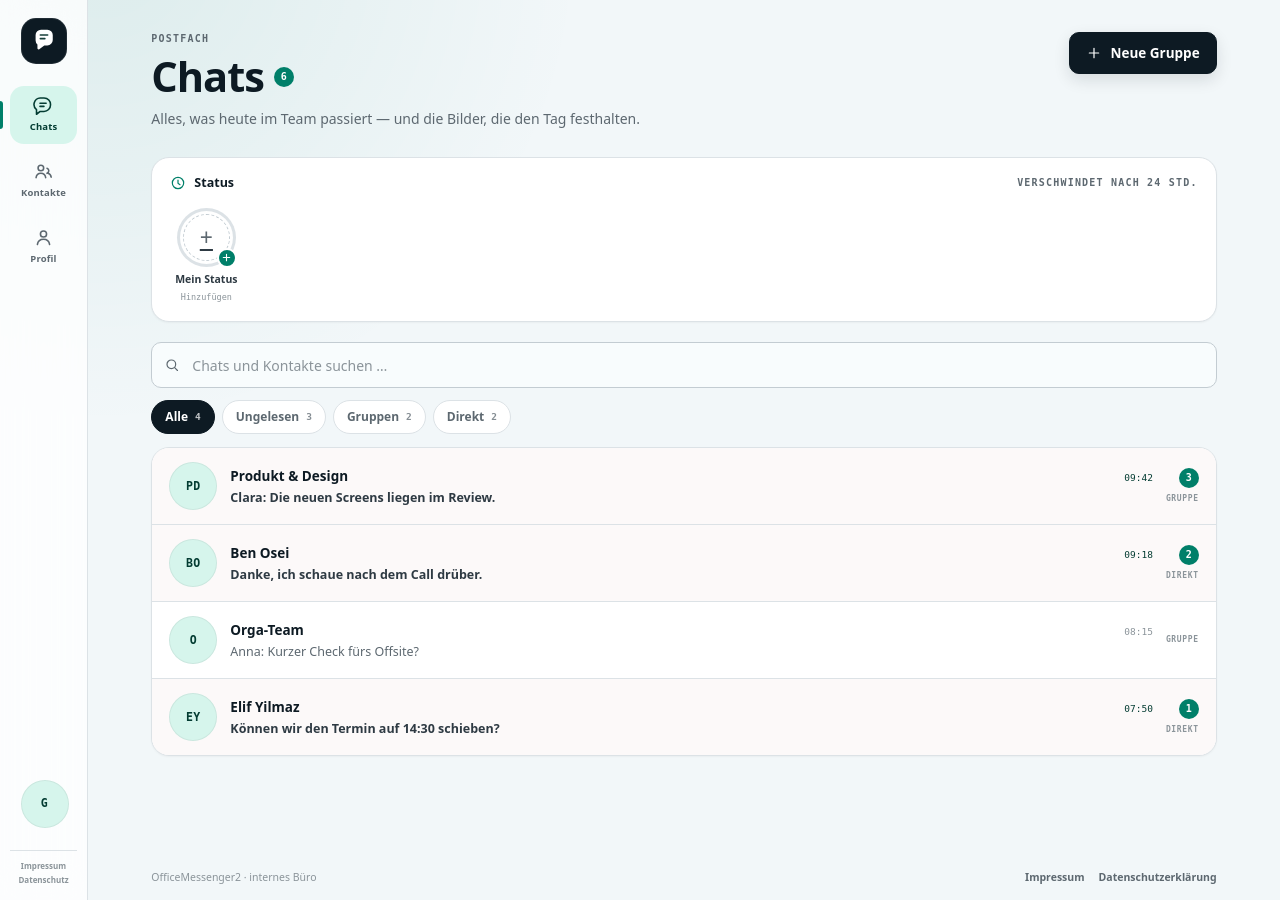
Scenario: ChatListPage › filters chats and contacts while typing in the search field
Expected: the text "Produkt & Design" is shown, [230,466,348,486]
Type "ben" into the search field labelled "Chats und Kontakte suchen" at {"x": 684, "y": 365}, box [151,342,1217,388]
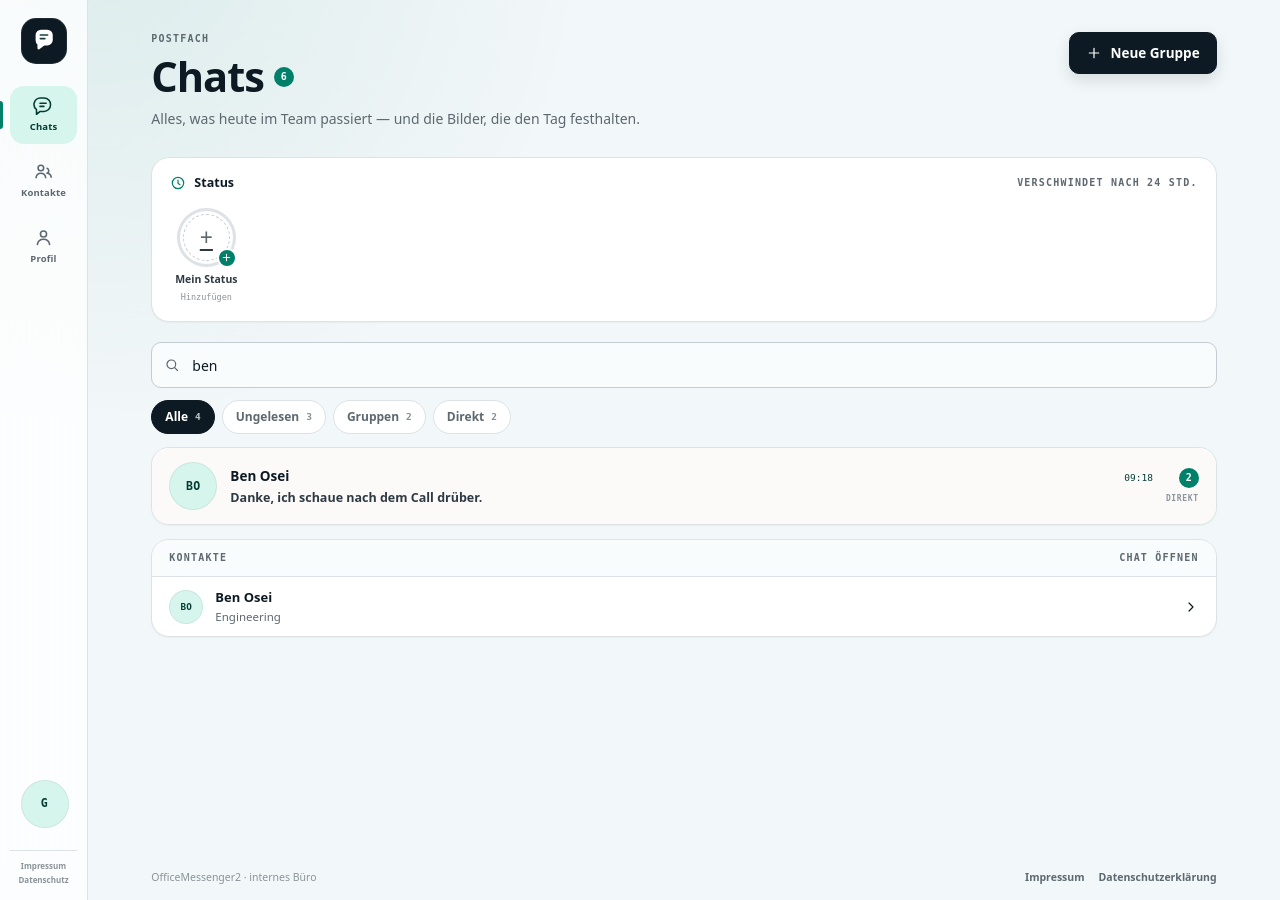
Result: the link "Produkt & Design" is gone
Result: the button with aria-label "Chat mit Ben Osei öffnen" is shown at [152,577,1216,636]
Result: the text "Engineering" is shown at [215,609,281,624]
